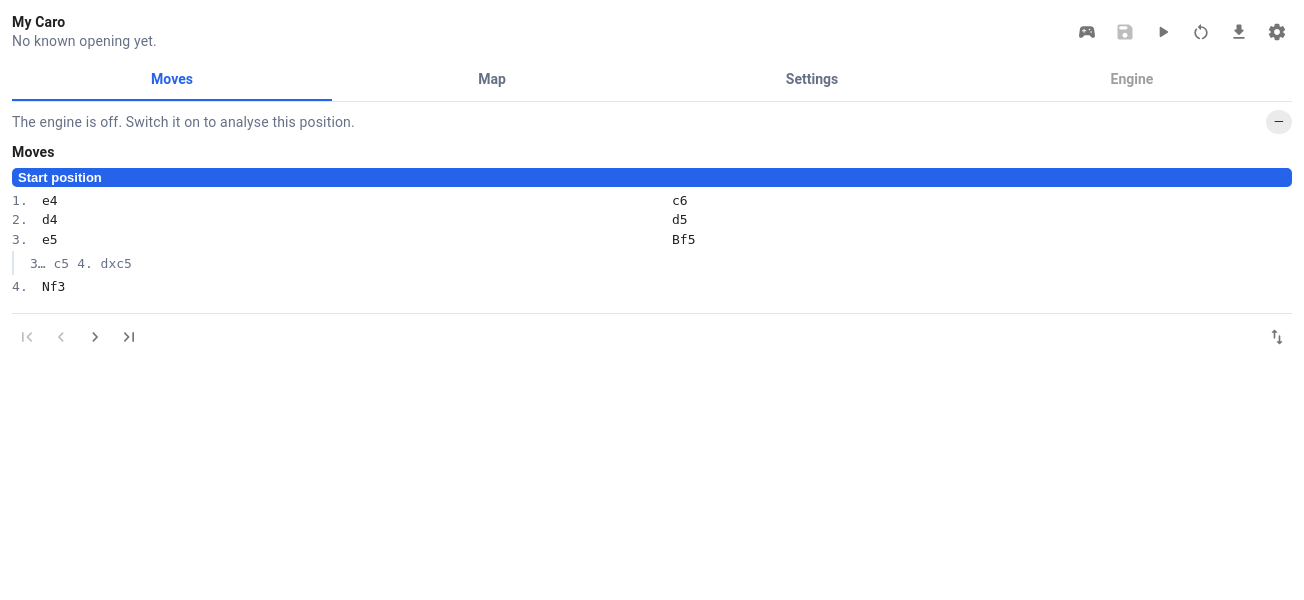
a repertoire's own view — the player, on the v2 board › keeps the Moves tab mounted across tab switches, and follows the board while hidden
The width and height of the screenshot is (1304, 600).
Note: Away to Settings: the list is still there, hidden, not unmounted.
Click the tab with test id "repertoire-board-panel-tab-settings" at (812, 80), box [652,59,972,101]
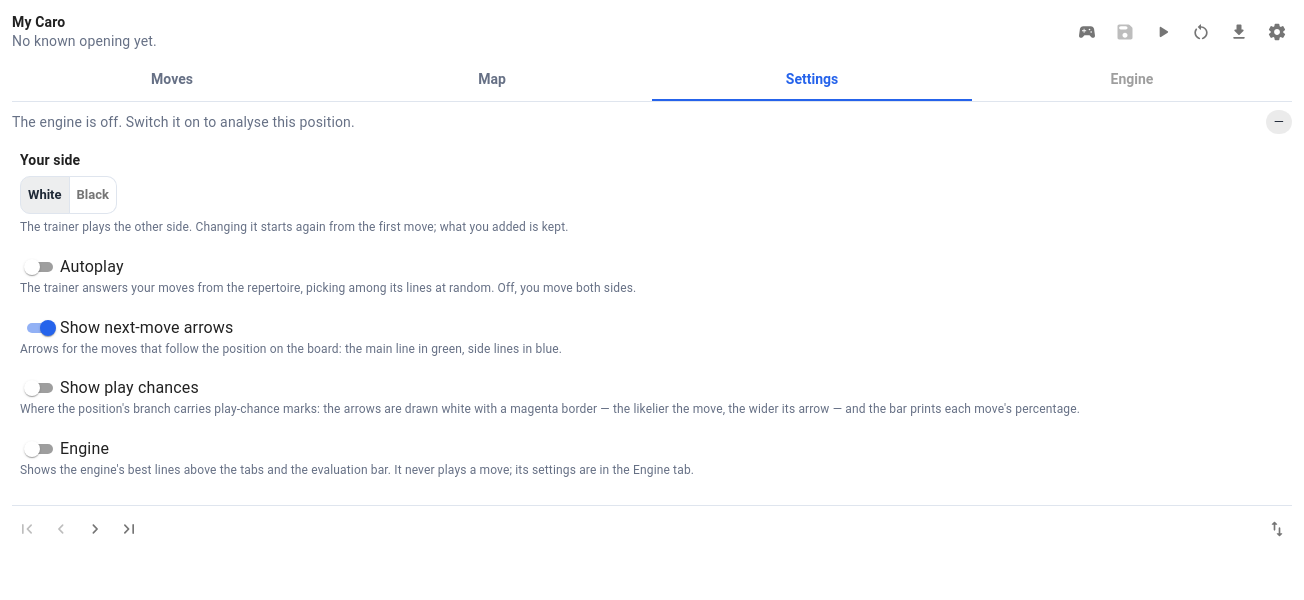
Result: the panel with test id "repertoire-board-panel-content-moves" is gone
Note: A step while it is hidden still reaches it.
Click the button with test id "board-control-next" at (95, 529), box [80,514,110,544]
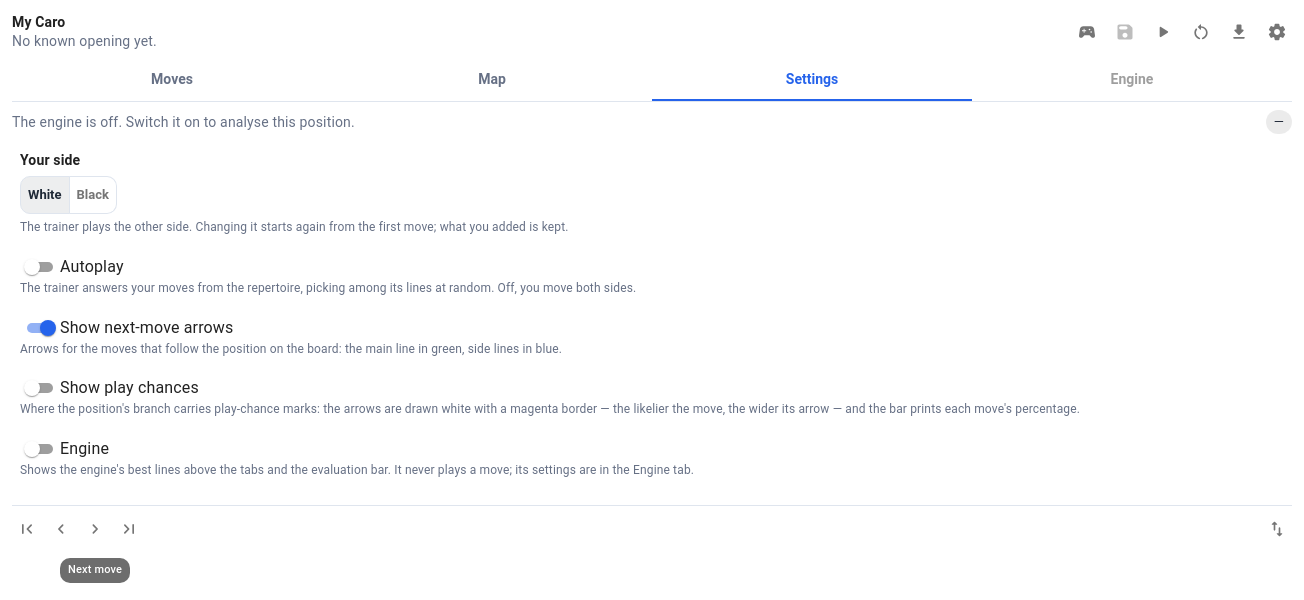
Note: Back: the very same list, now visible — no remount.
Click the tab with test id "repertoire-board-panel-tab-moves" at (172, 80), box [12,59,332,101]
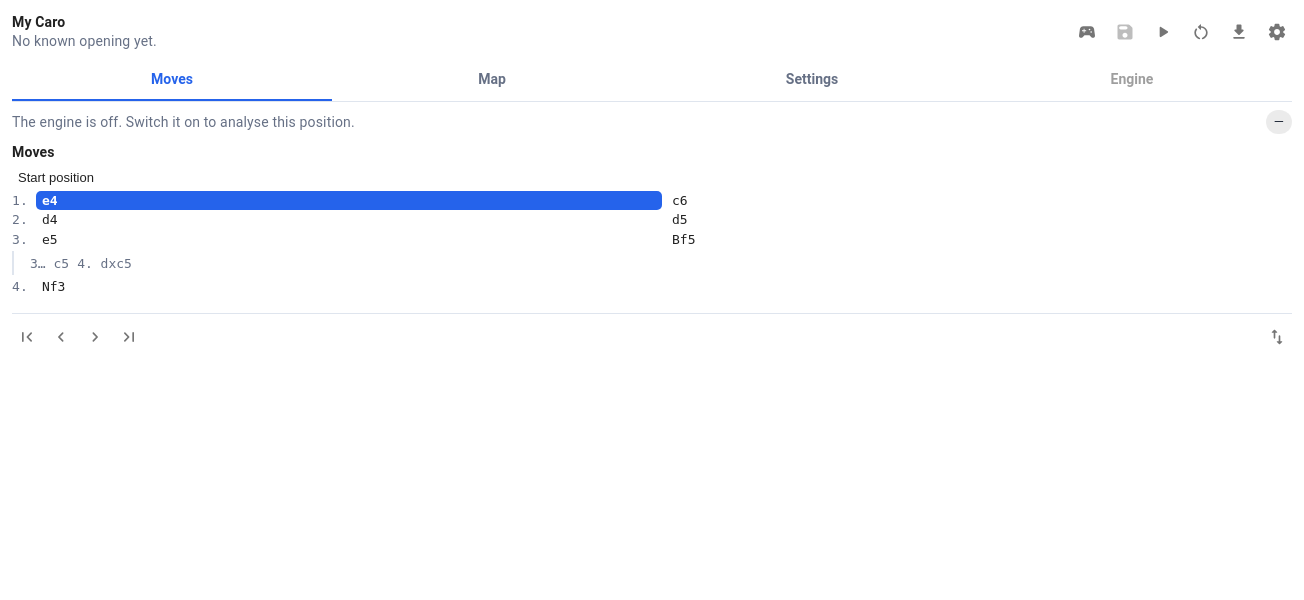
Result: the panel with test id "repertoire-board-panel-content-moves" is shown at [12,142,1292,297]
Result: the panel with test id "repertoire-board-panel-content-settings" is gone
